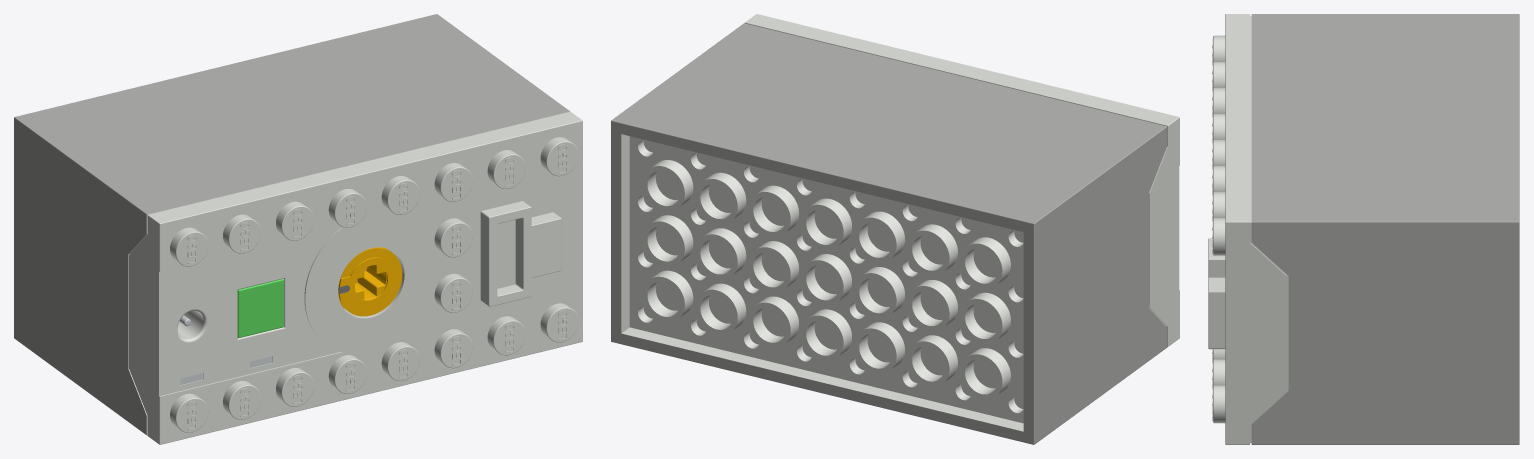
Rendered from Accu 4x8x38.glb.
The picture shows the model from 3 angles, left to right: view 1: azimuth 30°, elevation 25°; view 2: azimuth 150°, elevation 25°; view 3: azimuth 270°, elevation 25°; orthographic projection.
Parts seen in each view (by area): view 1: Accu 4x8x38; view 2: Accu 4x8x38; view 3: Accu 4x8x38.
Boxes of the visible parts, box(x1,y1,x2,y2) form: Accu 4x8x38: box(14, 14, 582, 444); Accu 4x8x38: box(611, 14, 1179, 444); Accu 4x8x38: box(1208, 14, 1519, 444).
Size of the model in its own units: 0.064 by 0.032 by 0.0404.
